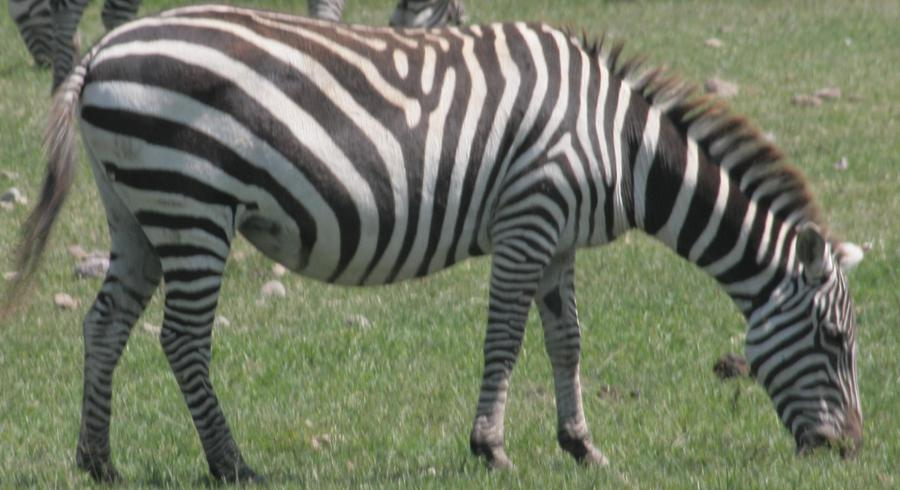zebra_plains: (116, 8, 599, 297)
